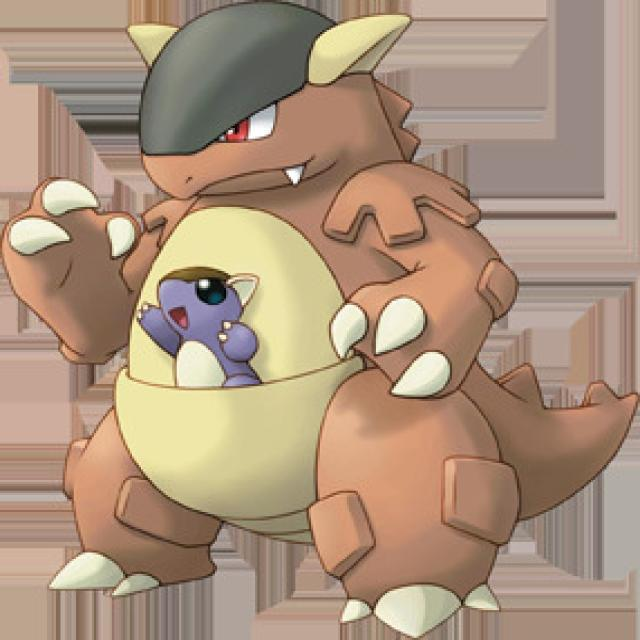Kangaskhan: (0, 6, 514, 628)
